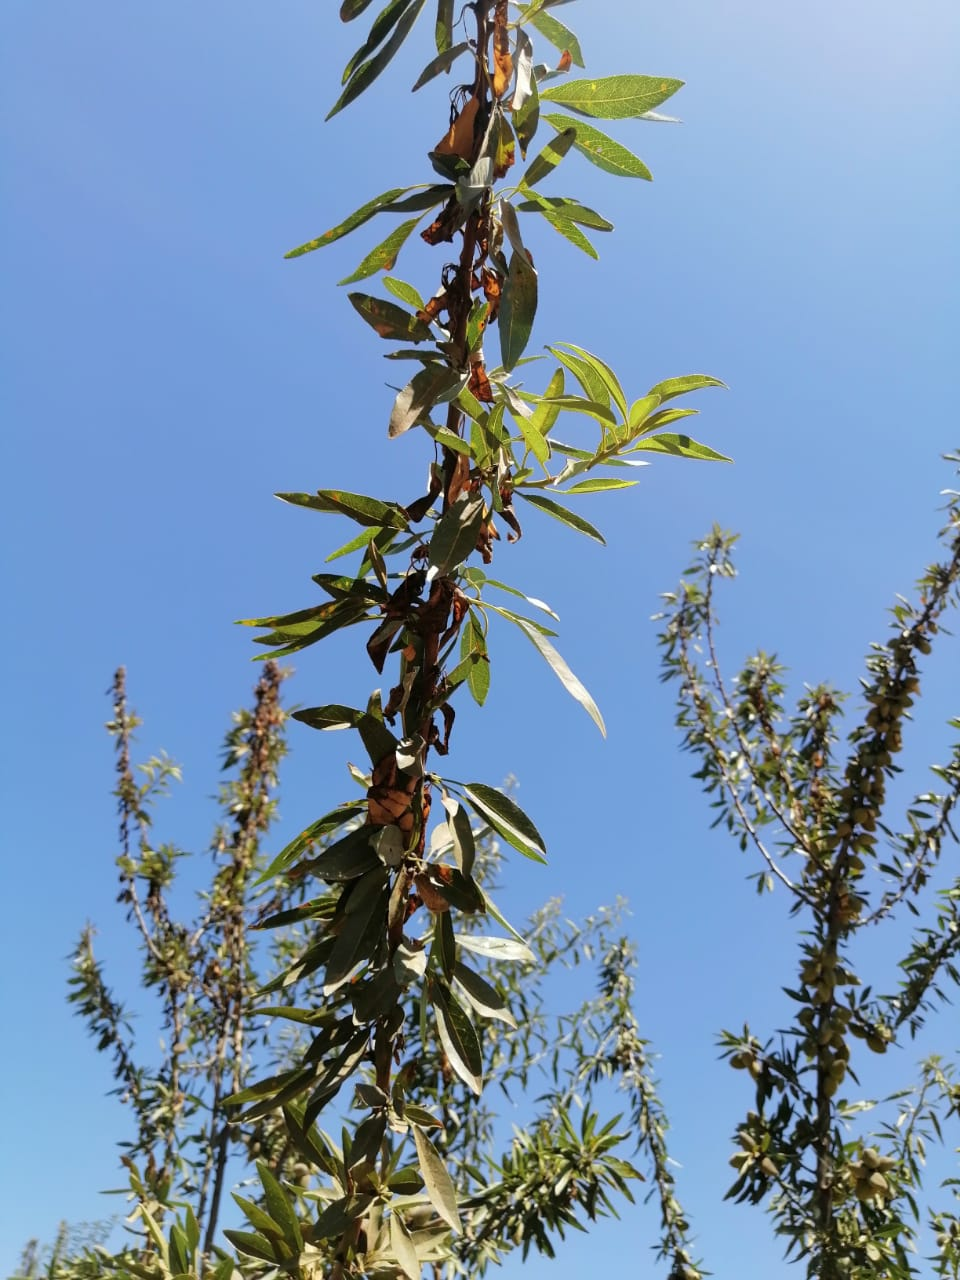scolytes: (356, 29, 521, 915)
